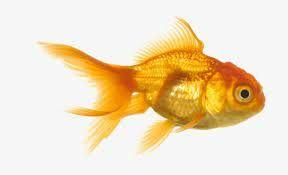Gold Fish: (37, 14, 266, 159)
